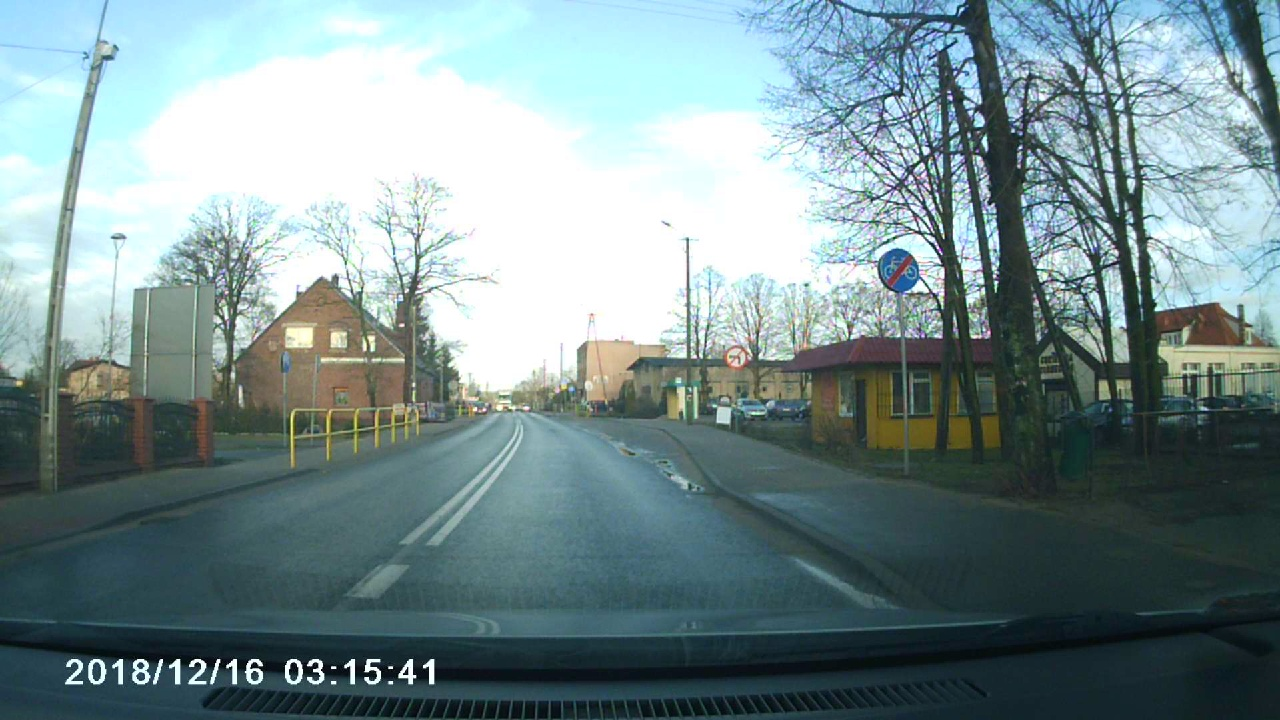B21: (723, 344, 750, 370)
